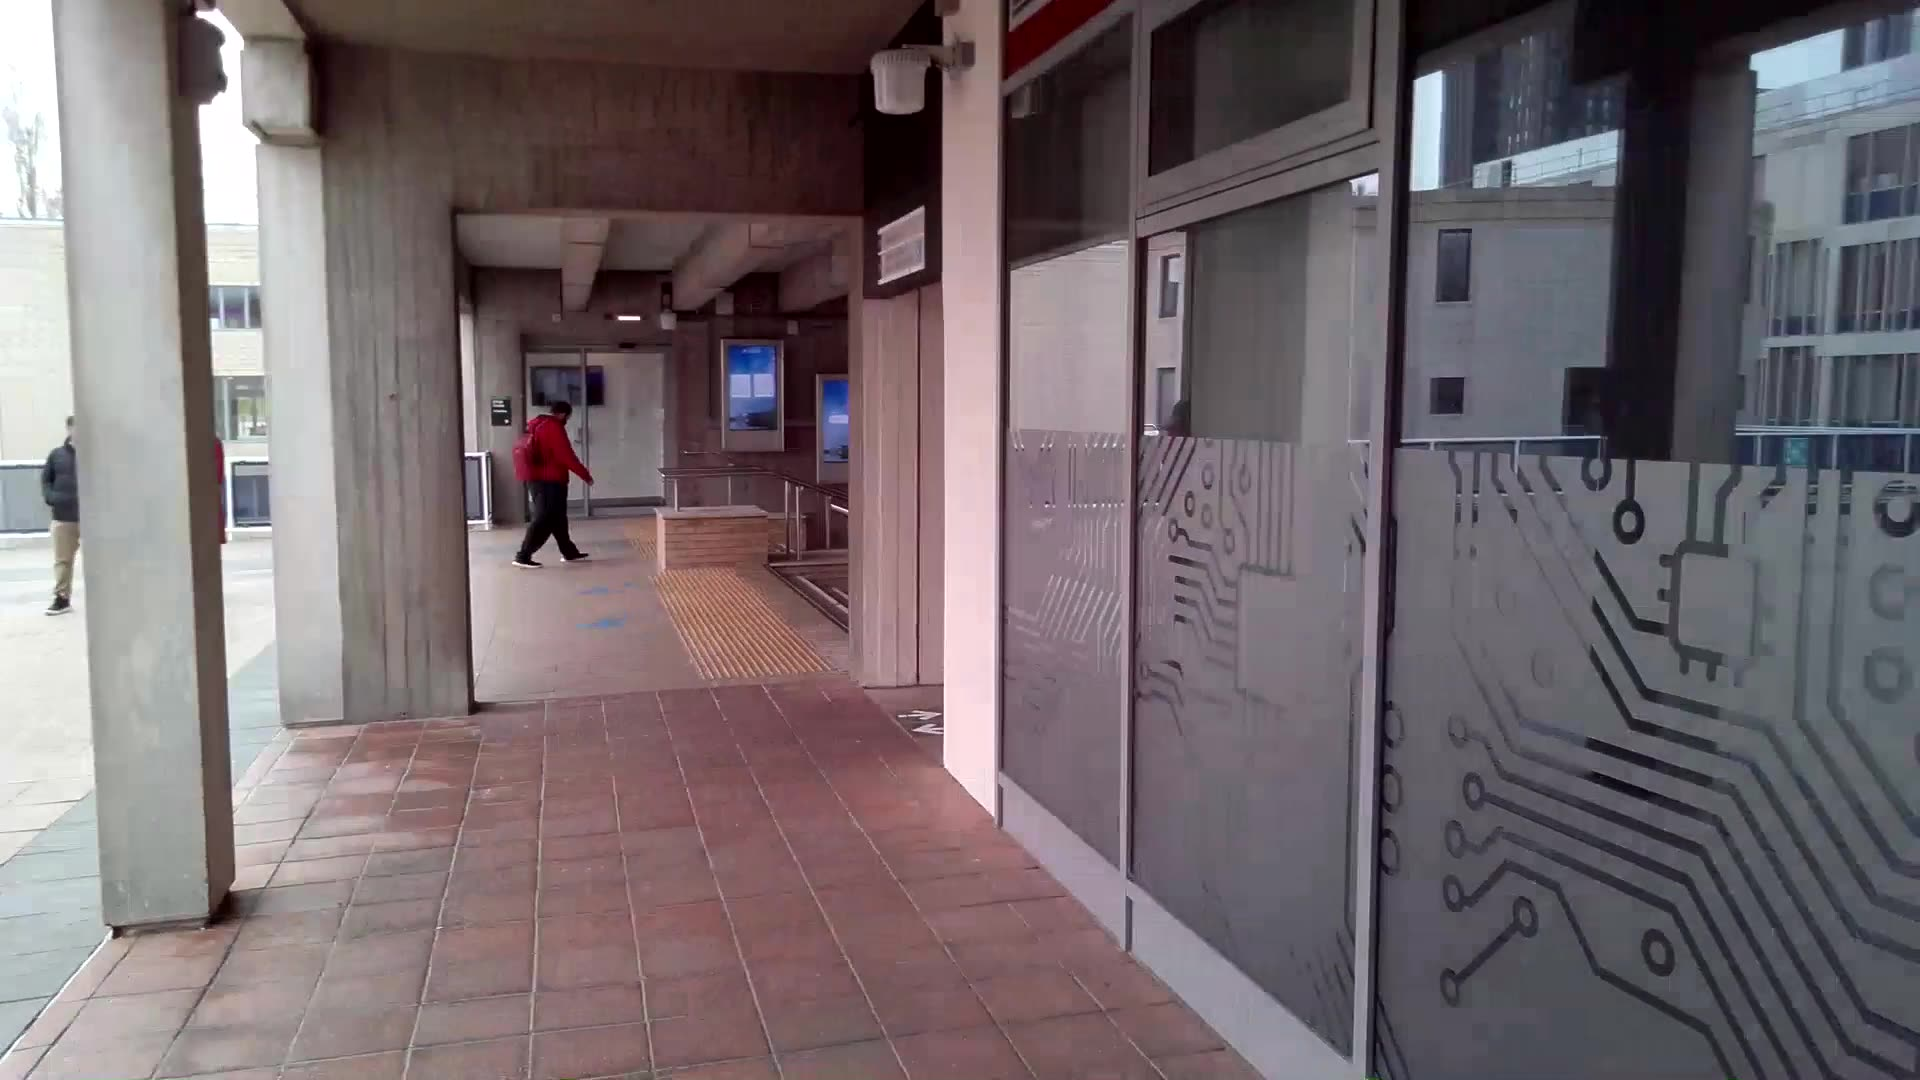Backpack: (509, 422, 552, 483)
Person: (541, 395, 592, 569)
